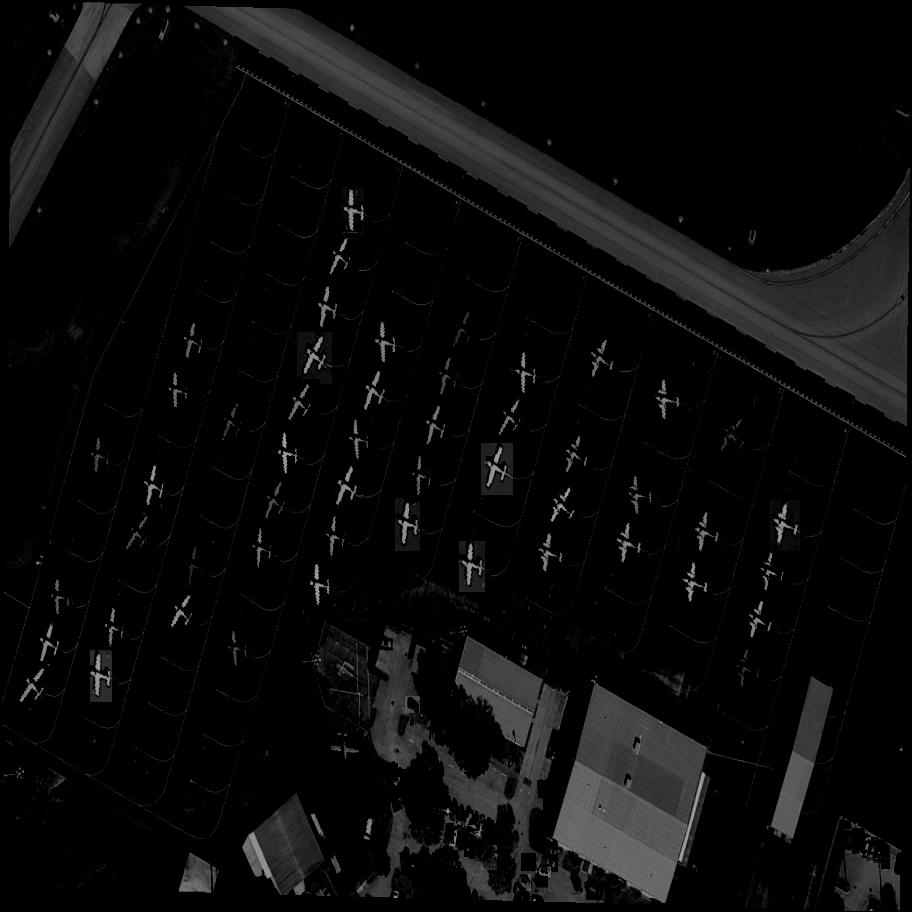large-vehicle: (38, 535, 49, 569)
plane: (539, 479, 588, 536), (710, 412, 760, 466), (114, 508, 162, 563), (489, 393, 535, 447), (11, 661, 57, 715), (280, 380, 325, 433), (441, 303, 483, 358), (583, 335, 625, 389), (214, 398, 254, 454), (321, 233, 362, 287), (557, 432, 598, 485), (741, 595, 781, 649), (294, 332, 335, 384), (256, 476, 296, 529), (162, 591, 204, 640), (356, 366, 394, 420), (329, 463, 368, 515), (480, 443, 517, 496), (730, 645, 766, 698), (418, 403, 454, 454), (770, 500, 805, 551), (178, 541, 211, 595), (757, 547, 791, 599), (31, 619, 66, 669), (679, 558, 712, 611), (613, 520, 647, 571), (534, 531, 567, 583), (312, 282, 344, 335), (433, 352, 465, 404), (691, 510, 723, 562), (139, 463, 169, 515), (177, 318, 208, 368), (395, 498, 424, 551), (324, 732, 368, 766), (459, 541, 487, 592), (321, 513, 348, 563), (655, 377, 683, 424), (514, 348, 539, 398), (249, 527, 275, 575), (410, 453, 435, 502), (103, 604, 127, 655), (349, 416, 373, 464), (630, 474, 655, 520), (87, 433, 112, 478), (277, 429, 299, 478), (91, 651, 112, 702), (375, 320, 397, 368), (225, 626, 248, 671), (311, 562, 332, 610), (344, 188, 365, 236), (169, 368, 189, 418), (50, 577, 70, 620)
small-vehicle: (582, 882, 606, 902), (480, 845, 499, 870), (392, 769, 410, 792), (852, 829, 868, 854), (534, 781, 555, 800), (385, 763, 400, 788), (873, 840, 888, 864), (418, 866, 435, 887), (460, 810, 476, 832), (520, 854, 539, 872), (541, 855, 561, 872), (475, 841, 491, 862), (481, 820, 496, 842), (516, 874, 534, 892), (364, 817, 376, 844), (404, 697, 423, 714), (866, 838, 880, 861), (469, 836, 482, 860), (449, 828, 463, 850), (467, 815, 483, 833), (443, 823, 455, 844), (464, 834, 475, 856), (881, 845, 891, 869), (490, 826, 500, 848), (476, 817, 486, 839), (571, 875, 582, 894), (429, 866, 438, 887), (862, 835, 870, 858), (402, 852, 410, 874), (409, 856, 417, 878), (459, 830, 467, 851), (438, 818, 446, 839), (539, 867, 551, 878), (380, 638, 392, 649), (536, 877, 548, 887), (458, 807, 463, 828)
